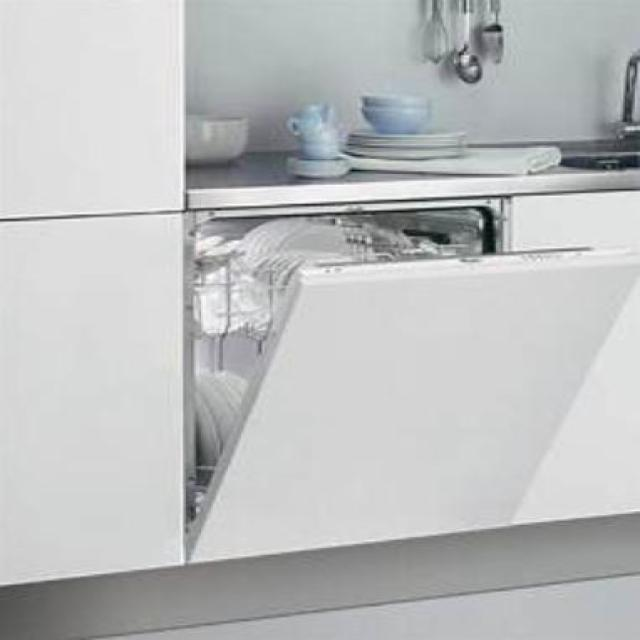dishwasher: (184, 196, 637, 560)
